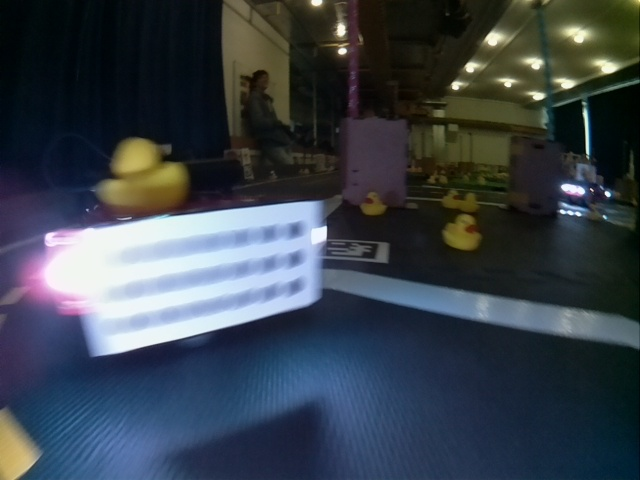Duckie: (97, 140, 189, 209), (443, 216, 481, 251), (361, 192, 385, 213), (443, 189, 459, 209), (462, 193, 479, 211)
Duckiebot: (43, 192, 321, 356), (560, 182, 611, 206)
QR code: (326, 240, 383, 261)
